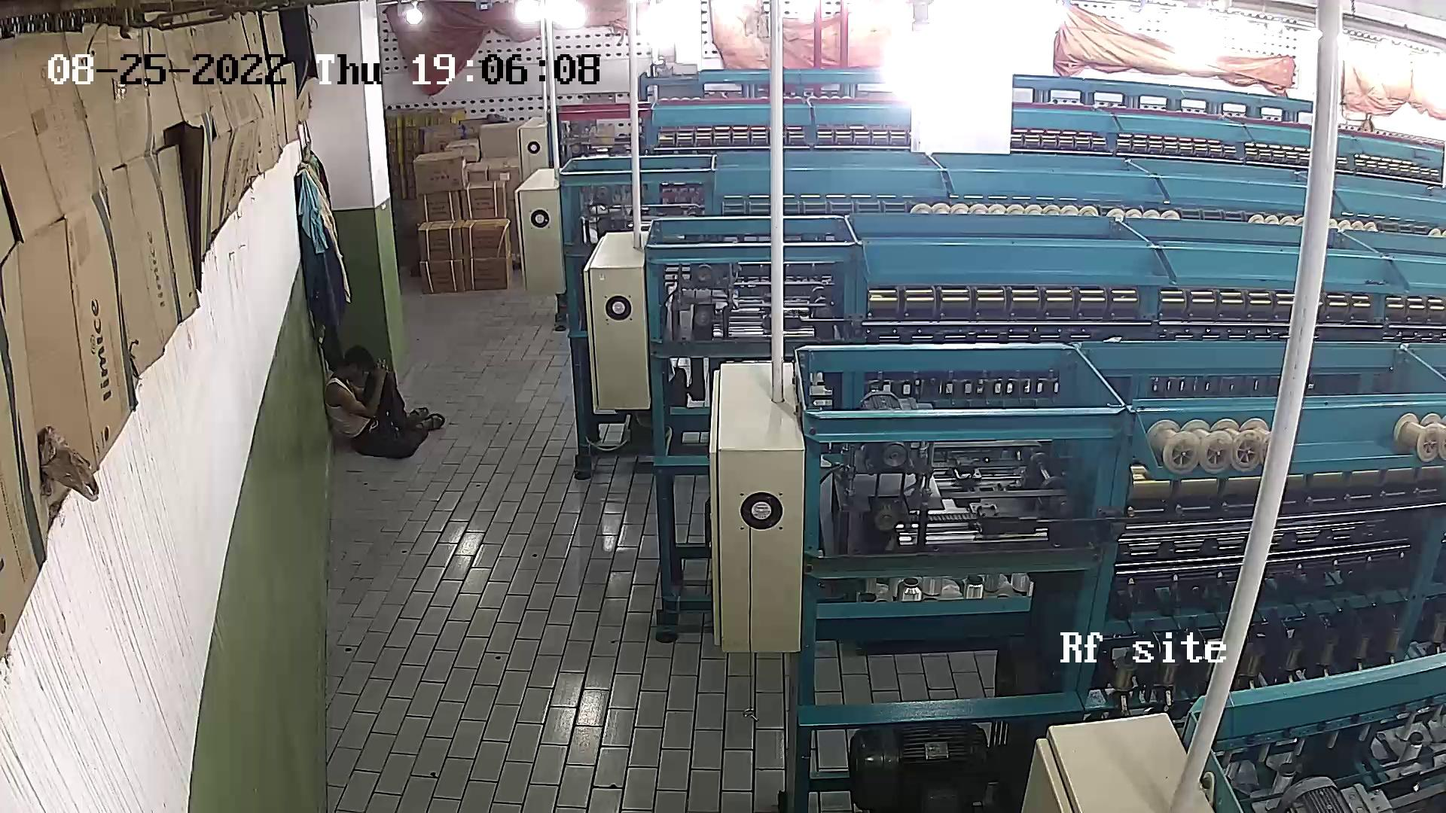person: (322, 346, 449, 463)
